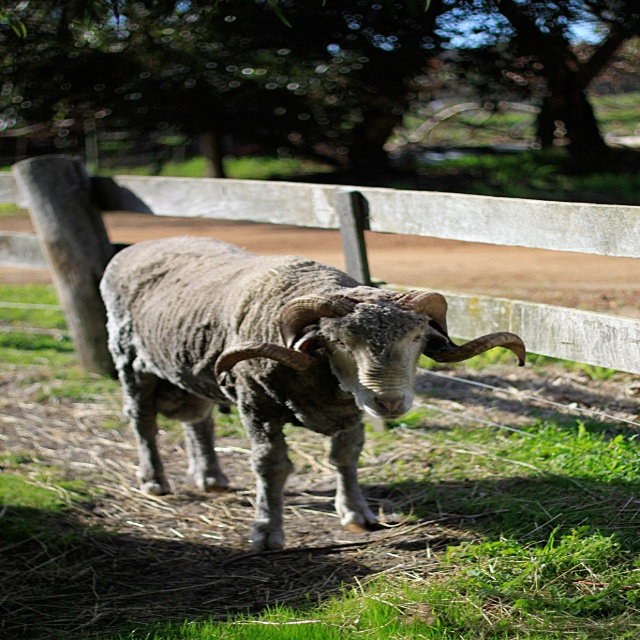Sheep: (95, 238, 524, 551)
